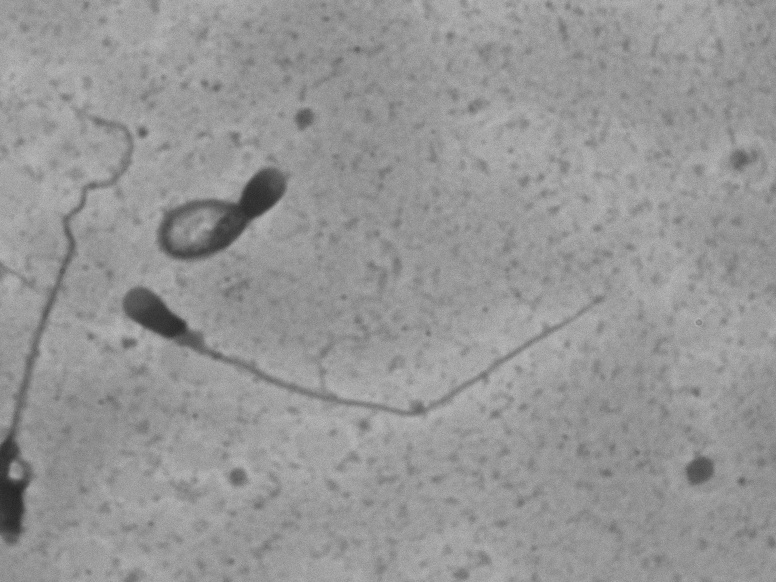Abnormal: (112, 272, 590, 477), (155, 144, 297, 273)
